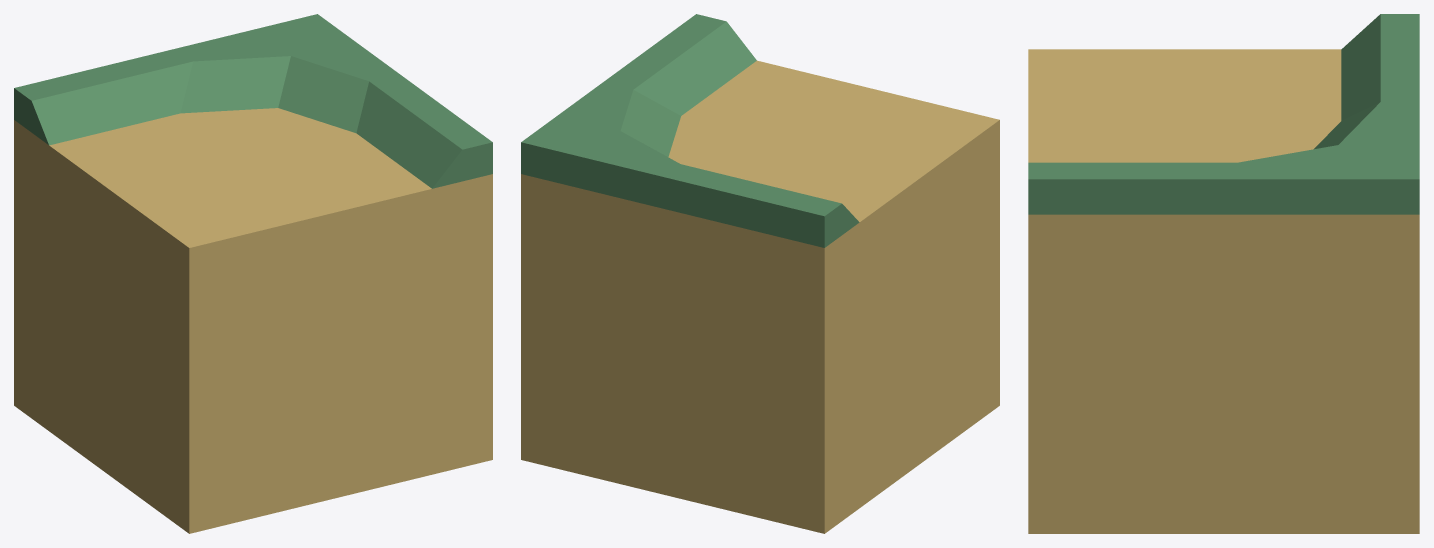
The model's file is path-corner-outer.glb.
3 renders of one model, left to right at view 1: azimuth 30°, elevation 25°; view 2: azimuth 150°, elevation 25°; view 3: azimuth 270°, elevation 25°, orthographic. The views are drawn at different scales.
Visible parts, largest first — view 1: Path - Corner Outer; view 2: Path - Corner Outer; view 3: Path - Corner Outer.
Part boxes in pixels (x1=…): Path - Corner Outer: x1=14, y1=14, x2=492, y2=533; Path - Corner Outer: x1=521, y1=14, x2=999, y2=533; Path - Corner Outer: x1=1028, y1=14, x2=1419, y2=533.
Bounding box in the file's own units: 1 × 1 × 1.
